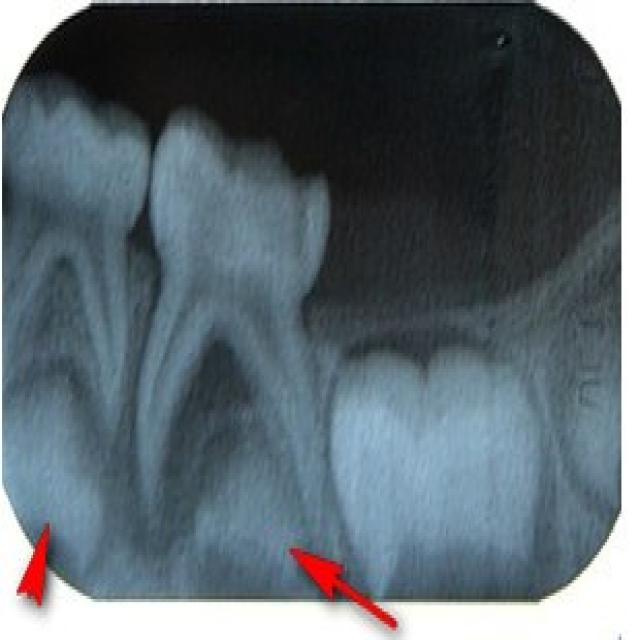Caries: (136, 98, 328, 550)
